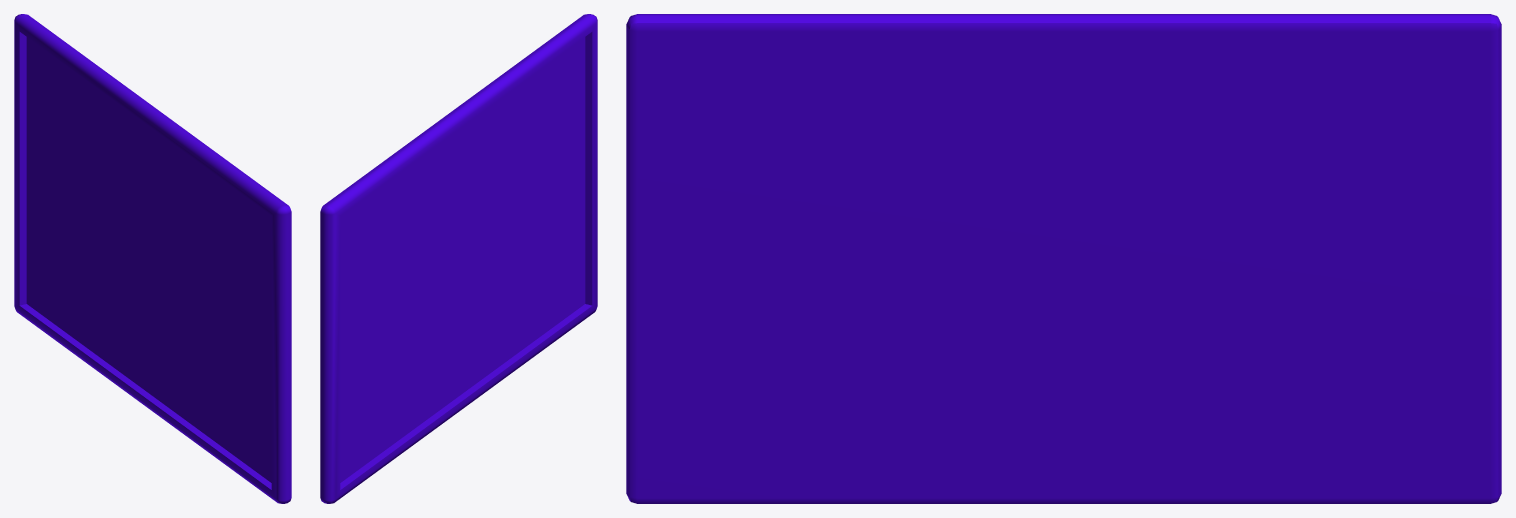
Rendered from Picture_Hideout.fbx.
3 renders of one model, left to right at view 1: azimuth 30°, elevation 25°; view 2: azimuth 150°, elevation 25°; view 3: azimuth 270°, elevation 25°, orthographic. The views are drawn at different scales.
Visible parts, largest first — view 1: Picture_Hideout; view 2: Picture_Hideout; view 3: Picture_Hideout.
Boxes of the visible parts, <box> form: Picture_Hideout: <box>14,14,291,503</box>; Picture_Hideout: <box>320,14,597,503</box>; Picture_Hideout: <box>626,14,1501,503</box>.
Bounding box in the file's own units: 4.2 × 80.29 × 131.
